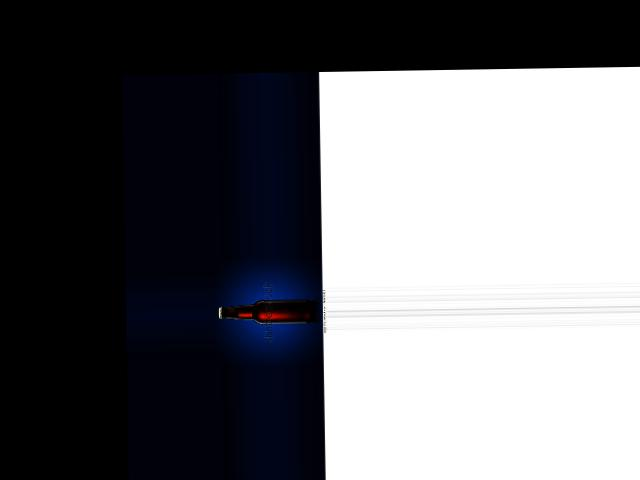beer: (217, 299, 312, 324)
